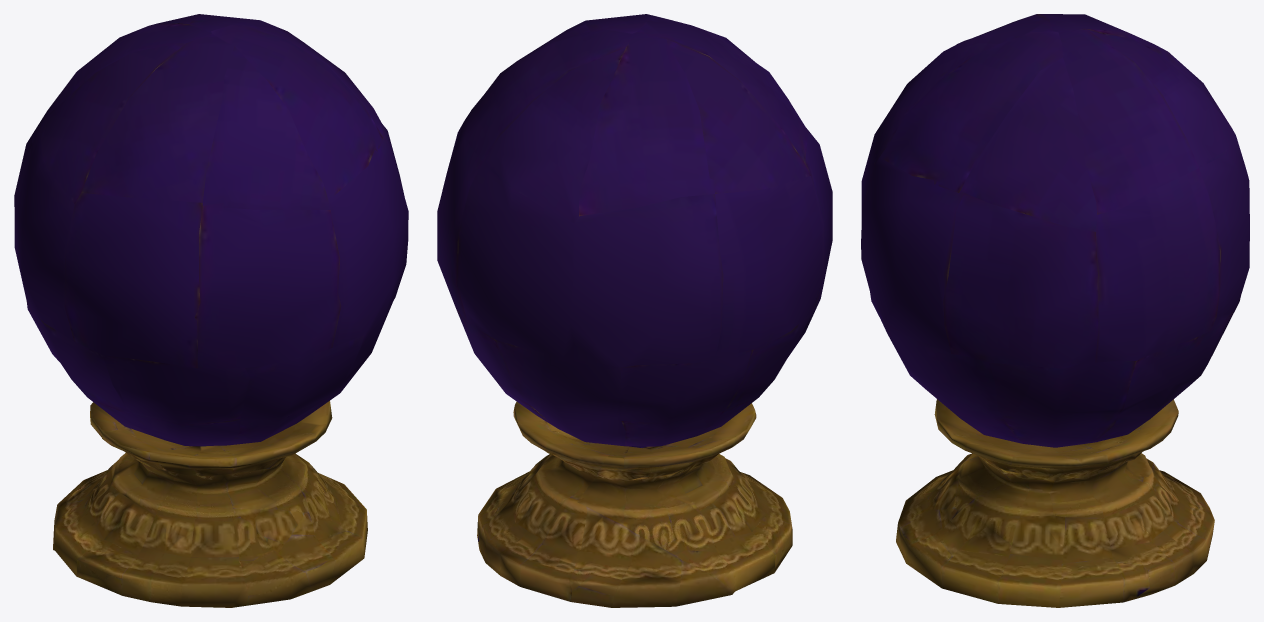
File: crystal-ball.glb
3 views of the same model, side by side, from view 1: azimuth 30°, elevation 25°; view 2: azimuth 150°, elevation 25°; view 3: azimuth 270°, elevation 25° (orthographic).
Size of the model in its own units: 1.3 by 1.9 by 1.31.
Materials: 1 (1 with a texture image).
